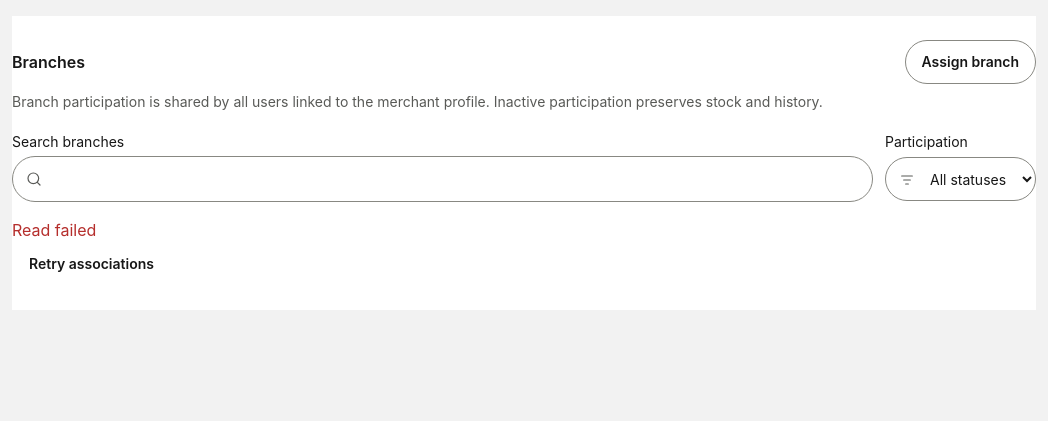
Test: Merchant branch management › recovers failed association reads and rejects obsolete scope responses
expect the text "Read failed" is shown: met, box [12,220,96,240]
Click the button "Retry associations".
click(91, 264)  # box [12,242,171,286]
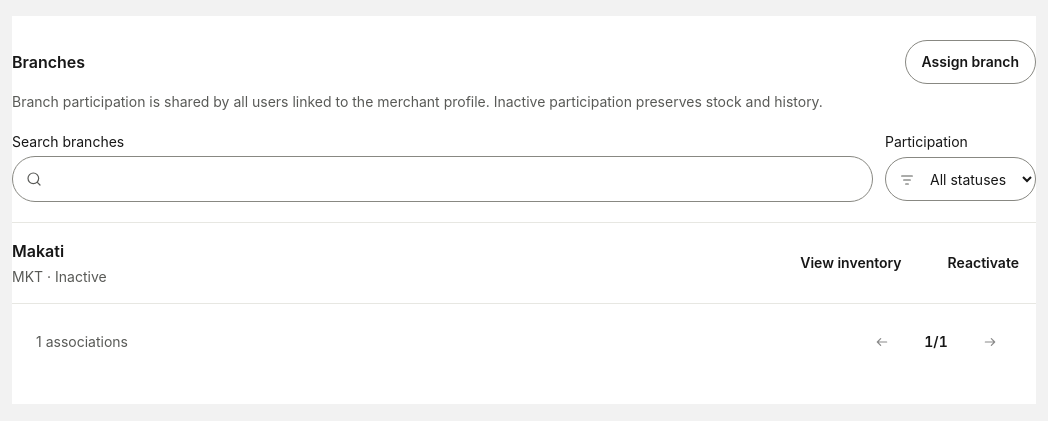
expect the text "Makati" is shown: met, box [12,241,64,261]
